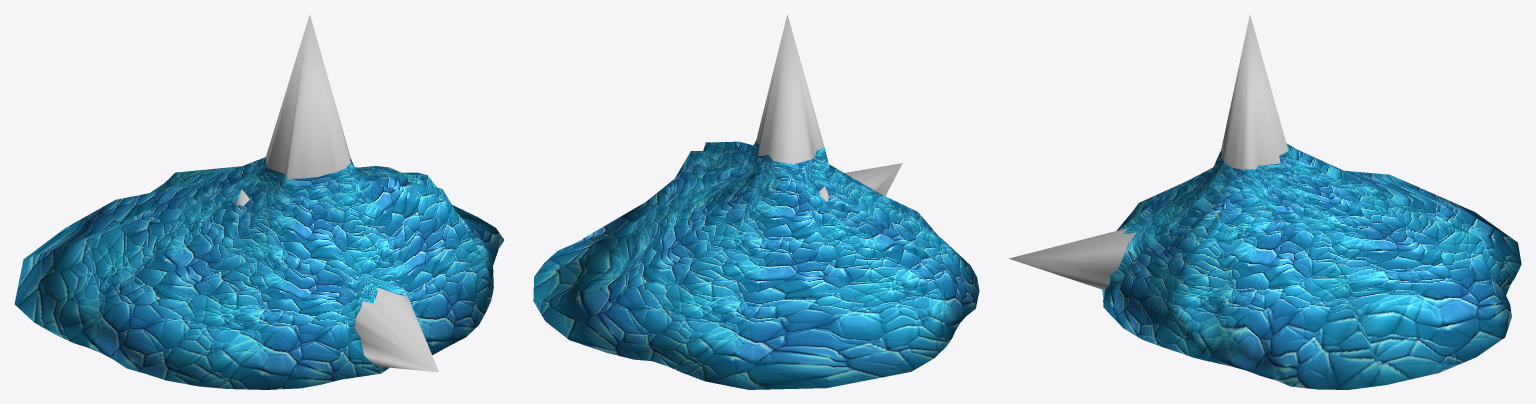
The model's file is ENVI_CrystalCave.obj.
The picture shows the model from 3 angles, left to right: view 1: azimuth 30°, elevation 25°; view 2: azimuth 150°, elevation 25°; view 3: azimuth 270°, elevation 25°; orthographic projection. The views are drawn at different scales.
Parts seen in each view (by area): view 1: Cave_ENVI_CrystalCave; view 2: Cave_ENVI_CrystalCave; view 3: Cave_ENVI_CrystalCave.
Boxes of the visible parts, x1=… form: Cave_ENVI_CrystalCave: x1=14, y1=14, x2=504, y2=389; Cave_ENVI_CrystalCave: x1=533, y1=14, x2=979, y2=389; Cave_ENVI_CrystalCave: x1=1009, y1=14, x2=1521, y2=389.
Bounding box in the file's own units: 51.42 × 33.03 × 55.39.
Materials: 4 (2 with a texture image).
